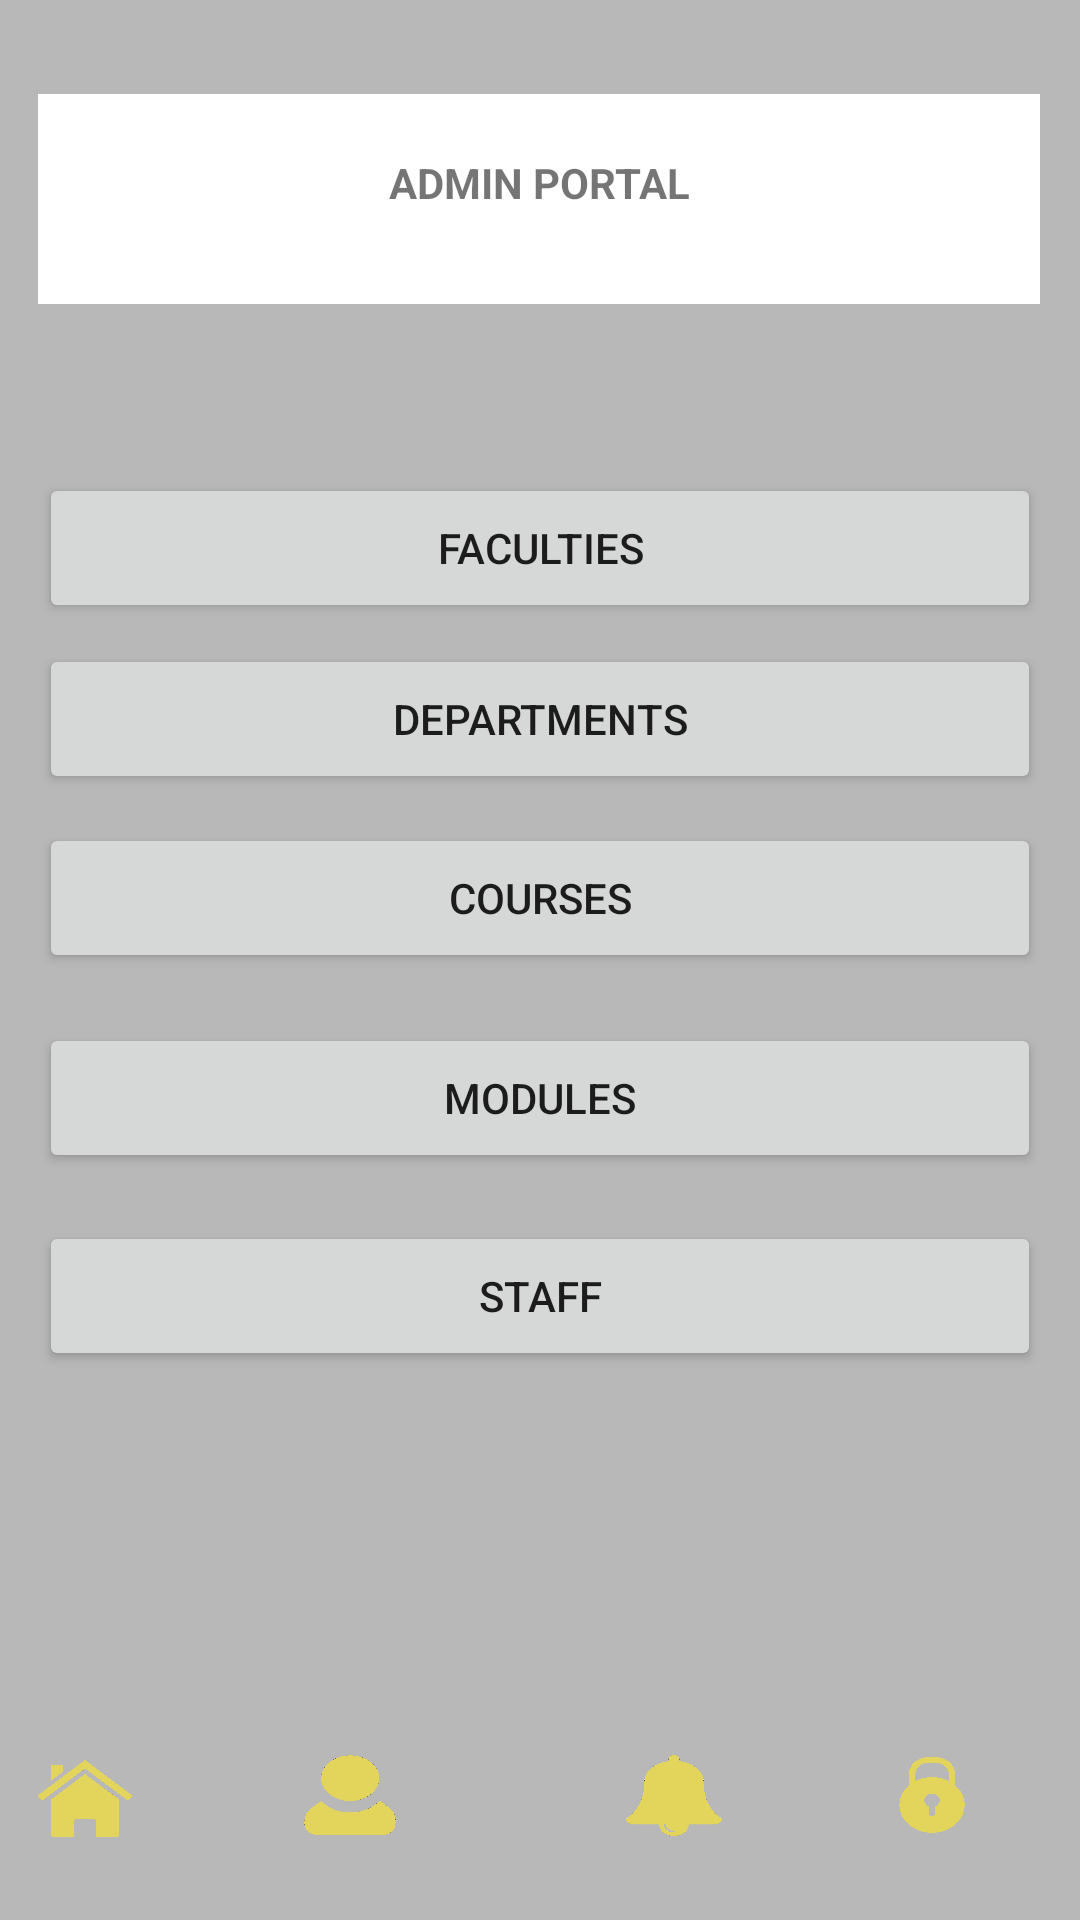

Screen size 1080*1920. Icon name, then its box in pixels as (x1, y1, x2, y2):
bellicon: (626, 1755, 722, 1836)
homeicon: (38, 1760, 132, 1837)
lock: (899, 1757, 965, 1833)
usericon: (304, 1755, 396, 1835)
